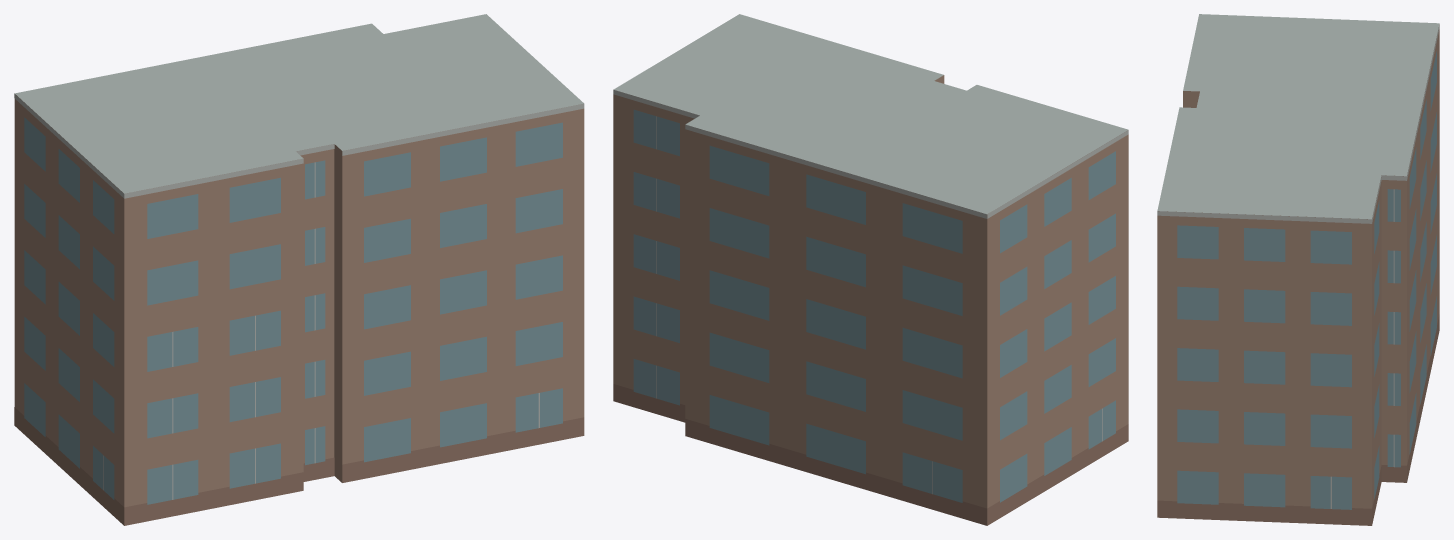
Rendered from survey-upis-32736508.glb.
3 renders of one model, left to right at view 1: azimuth 30°, elevation 25°; view 2: azimuth 150°, elevation 25°; view 3: azimuth 270°, elevation 25°, orthographic. The views are drawn at different scales.
Parts seen in each view (by area): view 1: survey-upis-32736508.tmp; view 2: survey-upis-32736508.tmp; view 3: survey-upis-32736508.tmp.
Boxes of the visible parts, x1=… form: survey-upis-32736508.tmp: x1=14, y1=14, x2=584, y2=525; survey-upis-32736508.tmp: x1=613, y1=14, x2=1128, y2=525; survey-upis-32736508.tmp: x1=1157, y1=14, x2=1439, y2=525.
Bounding box in the file's own units: 23.27 × 16.2 × 13.53.
